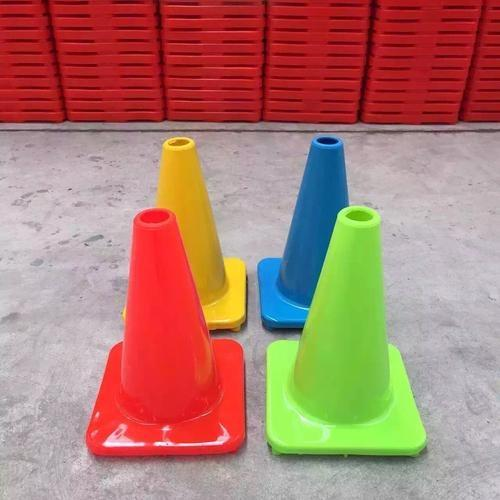cone_barrel: (273, 214, 413, 432), (105, 216, 232, 440), (145, 137, 240, 316), (268, 134, 359, 311)
